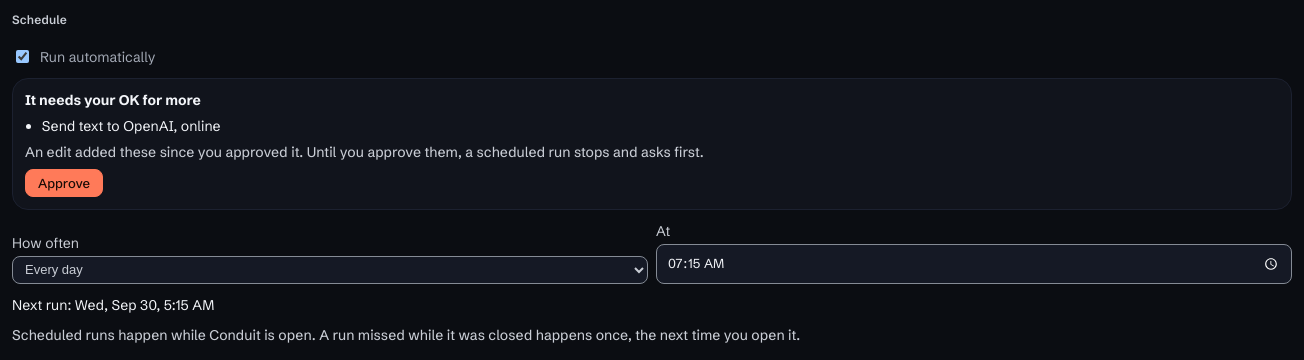
Test: ScheduleSection approval › says what an edit added since the approval, and approves it
Check: the element "It needs your OK for more" shows "Send text to OpenAI, online", box [42,117,221,135]
Check: the element "It needs your OK for more" does not show "Save documents", box [12,78,1292,210]
Click the button "Approve" at (64, 183), box [25,169,103,197]
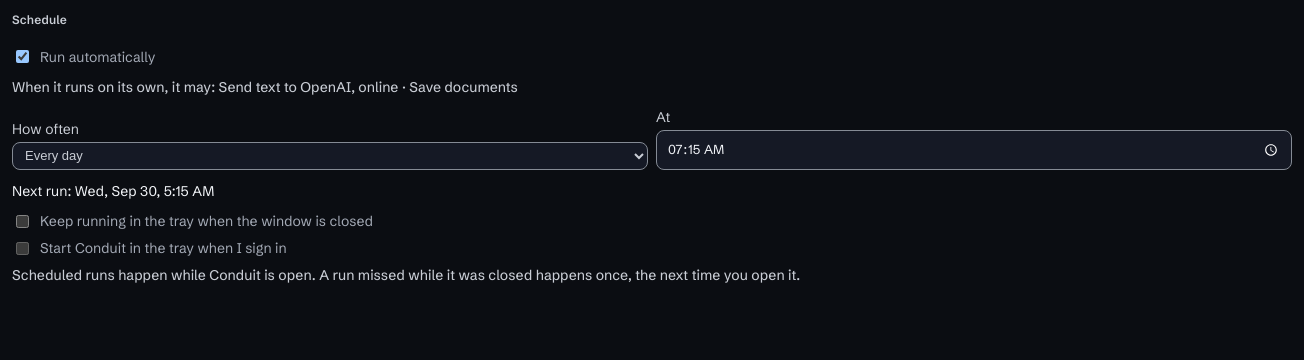
Check: the text "It needs your OK for more" is gone
Check: the text "When it runs on its own, it may: Send text to OpenAI, online · Save documents" is shown, box [12,78,518,96]
